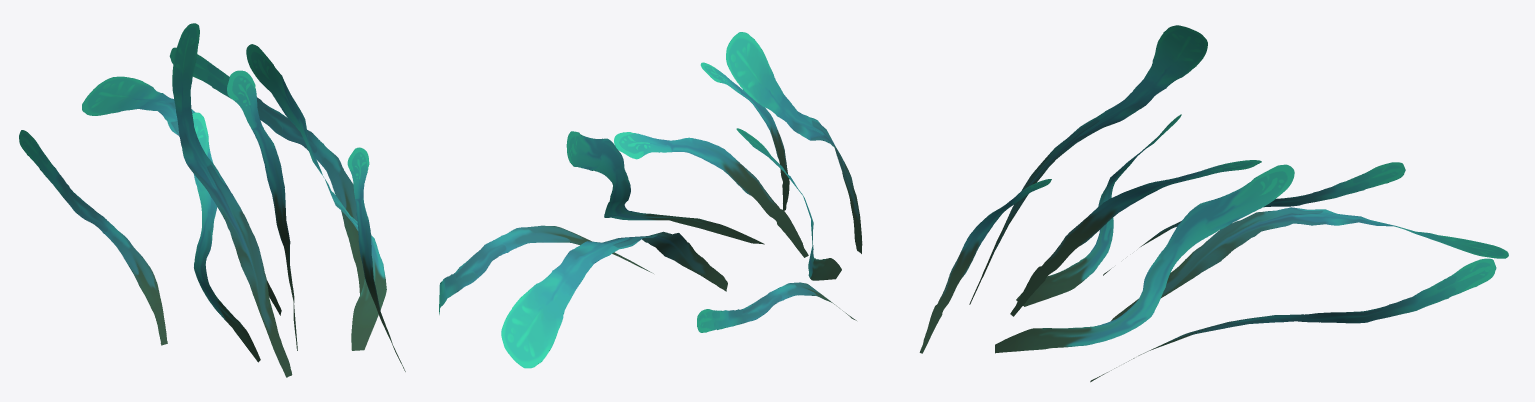
File: Seaweed3.fbx
The picture shows the model from 3 angles, left to right: view 1: azimuth 30°, elevation 25°; view 2: azimuth 150°, elevation 25°; view 3: azimuth 270°, elevation 25°; orthographic projection. The views are drawn at different scales.
Parts seen in each view (by area): view 1: Plane.010; view 2: Plane.010; view 3: Plane.010.
Boxes of the visible parts, left/top/right/bottom form: Plane.010: left=19, top=23, right=405, bottom=377; Plane.010: left=439, top=32, right=862, bottom=368; Plane.010: left=919, top=25, right=1508, bottom=382.
Bounding box in the file's own units: 128 × 145 × 243.
